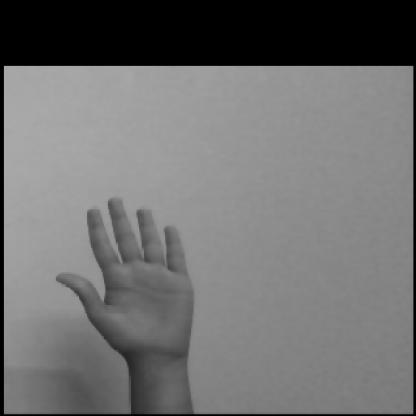palm: (18, 180, 260, 397)
